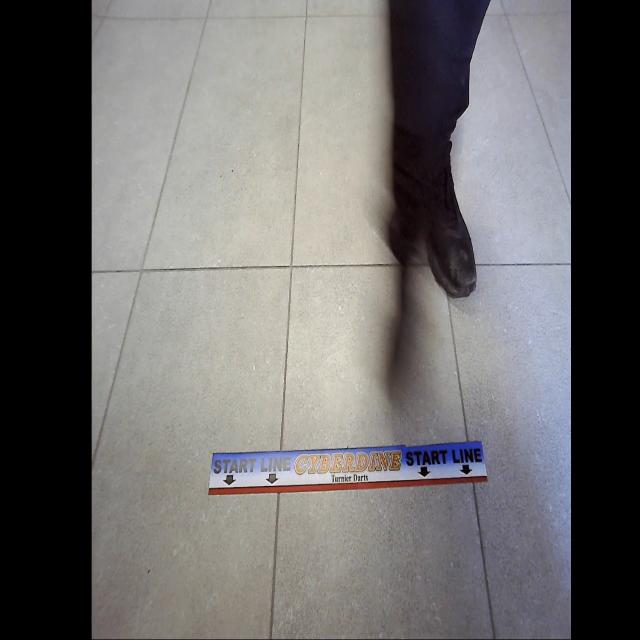foot: (421, 160, 478, 301)
